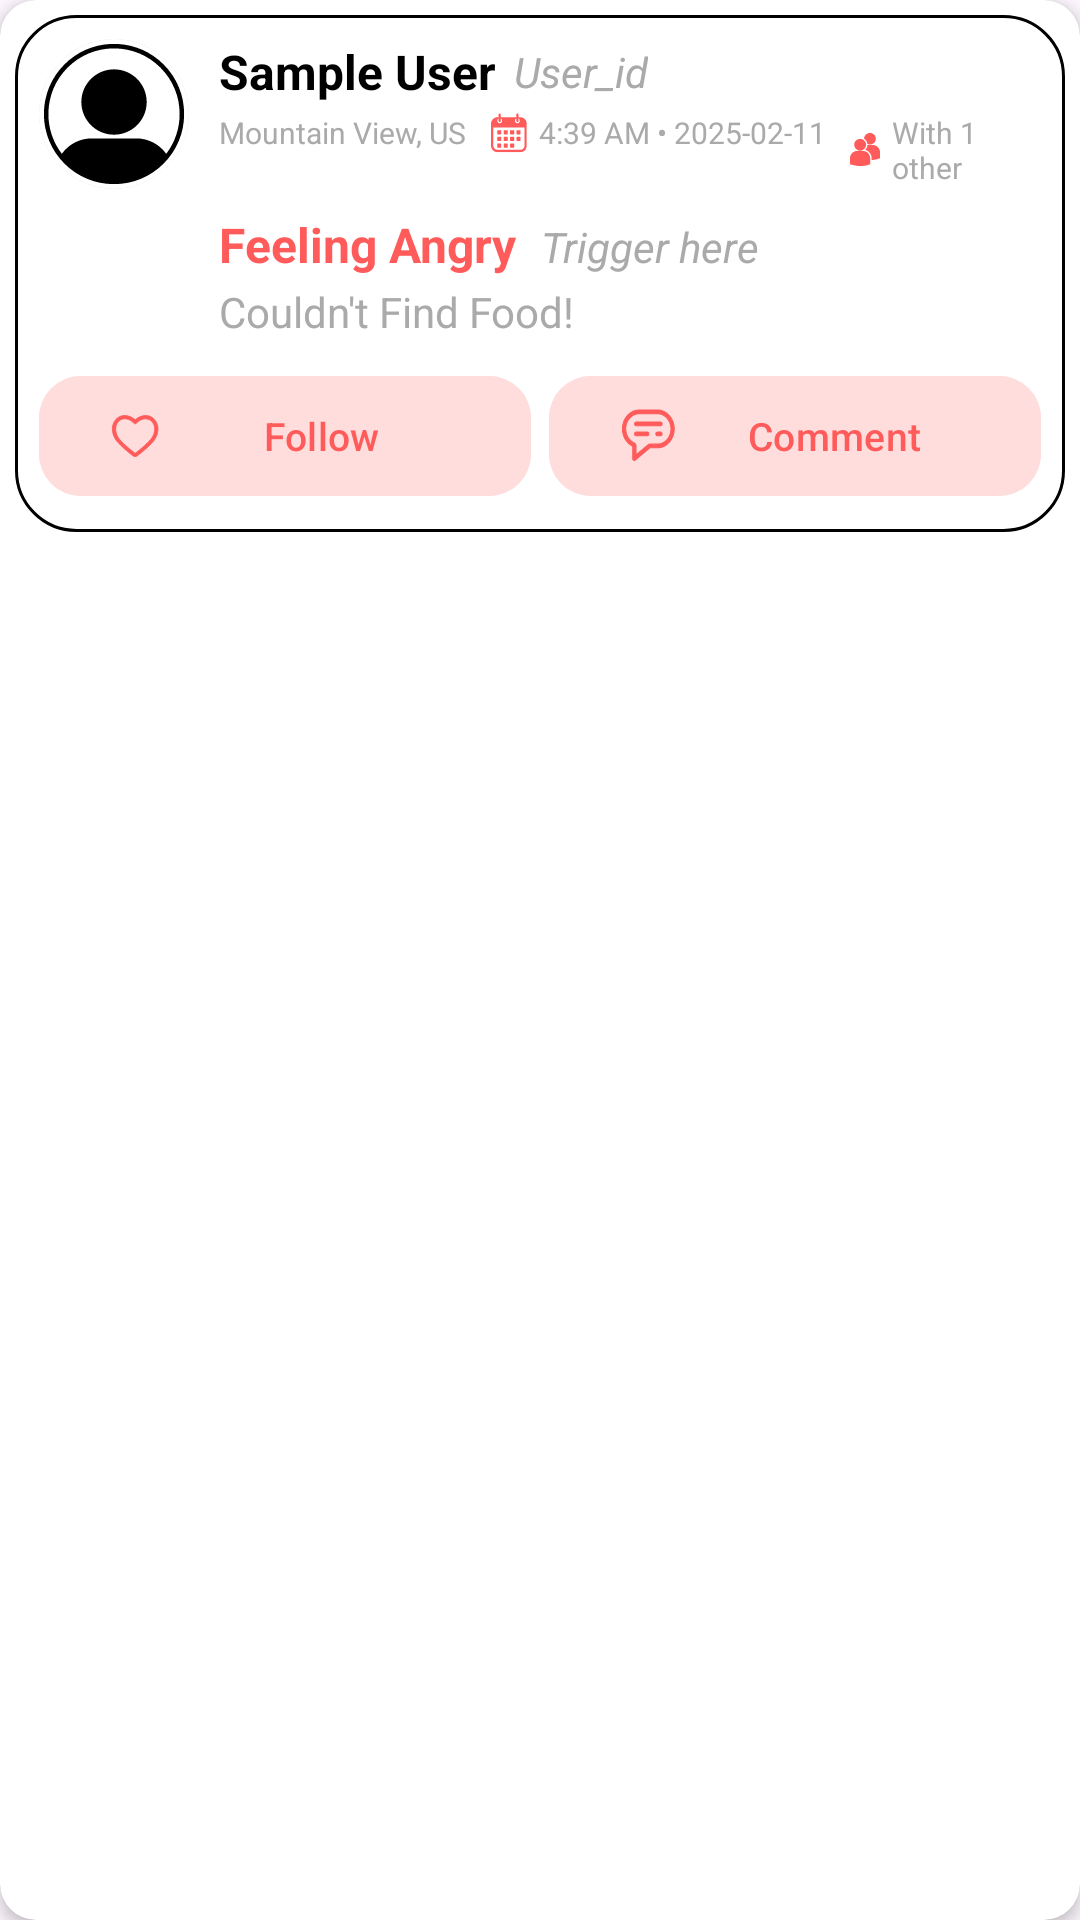

Where icons sit on this 1080px x 1920px app screen, as (x1, y1, x2, y2):
profile: (44, 44, 184, 184)
